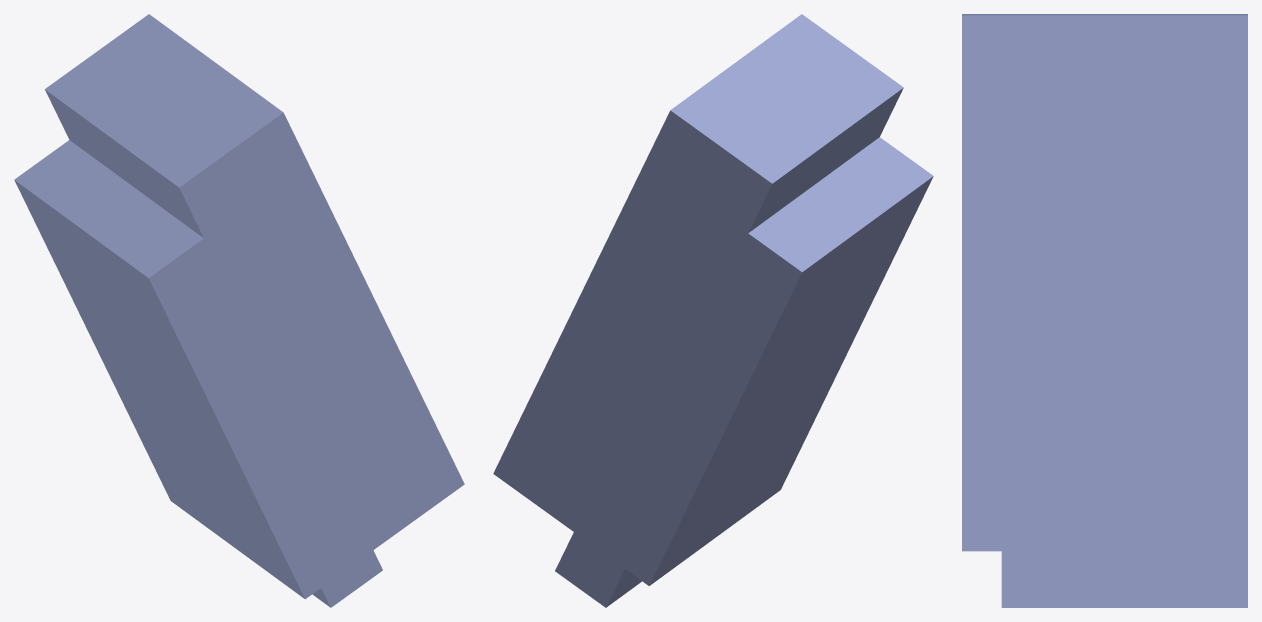
3 views of the same model, side by side, from view 1: azimuth 30°, elevation 25°; view 2: azimuth 150°, elevation 25°; view 3: azimuth 270°, elevation 25° (orthographic). The views are drawn at different scales.
Visible parts, largest first — view 1: E6; view 2: E6; view 3: E6.
Part boxes in pixels (<box>): E6: <box>14,14,464,607</box>; E6: <box>493,14,933,607</box>; E6: <box>962,14,1247,607</box>.
Size of the model in its own units: 47.2 by 74.92 by 34.8.
